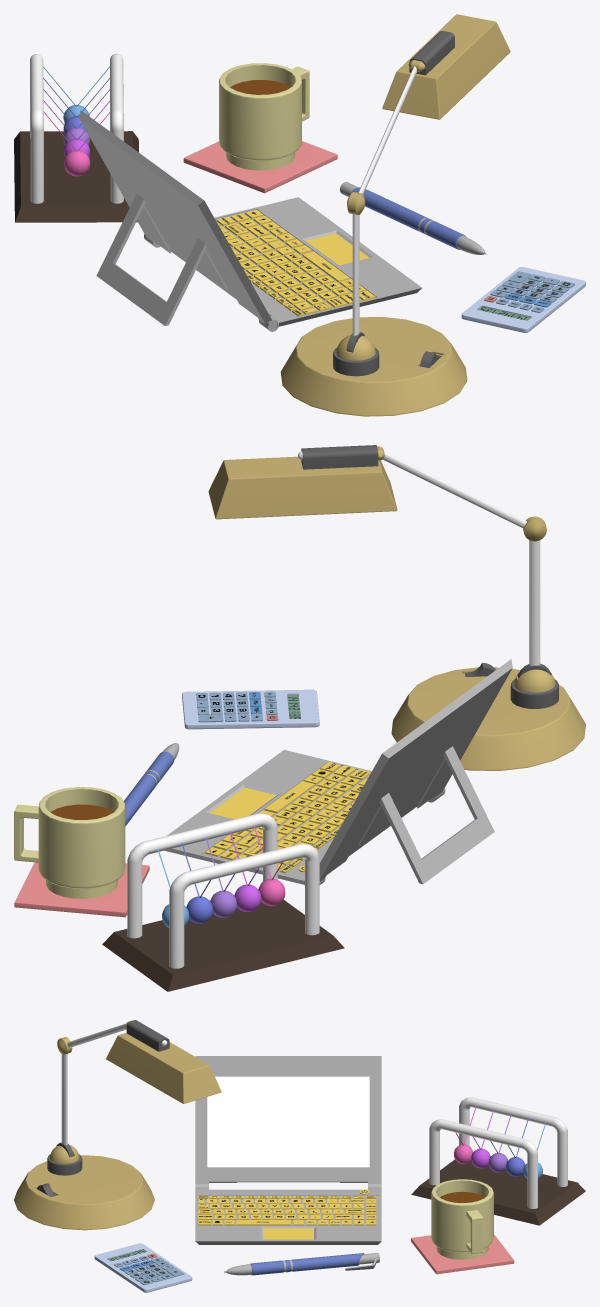
The model's file is desk-transformed.glb.
3 renders of one model, top to bottom at view 1: azimuth 30°, elevation 25°; view 2: azimuth 150°, elevation 25°; view 3: azimuth 270°, elevation 25°, orthographic. The views are drawn at different scales.
Parts seen in each view (by area): view 1: computer, lamp, pCube4, pCylinder5, calculator, pSphere3; view 2: computer, lamp, pCube4, pCylinder5, calculator, pSphere3; view 3: computer, lamp, pCube4, pCylinder5, calculator, pSphere3.
Boxes of the visible parts, x1,y1,x2,y2 form: computer: [79, 110, 421, 331]; lamp: [280, 14, 510, 416]; pCube4: [14, 53, 138, 222]; pCylinder5: [183, 63, 337, 193]; calculator: [461, 267, 585, 332]; pSphere3: [340, 182, 486, 254]; computer: [164, 659, 512, 884]; lamp: [208, 445, 585, 770]; pCube4: [102, 813, 344, 991]; pCylinder5: [14, 787, 149, 917]; calculator: [182, 689, 319, 729]; pSphere3: [123, 743, 179, 826]; computer: [195, 1056, 381, 1244]; lamp: [14, 1020, 221, 1230]; pCube4: [411, 1097, 585, 1225]; pCylinder5: [411, 1179, 514, 1274]; calculator: [94, 1243, 192, 1292]; pSphere3: [224, 1253, 379, 1275].
Size of the model in its own units: 51.85 by 38.25 by 94.21.
Materials: 22 (2 with a texture image).
